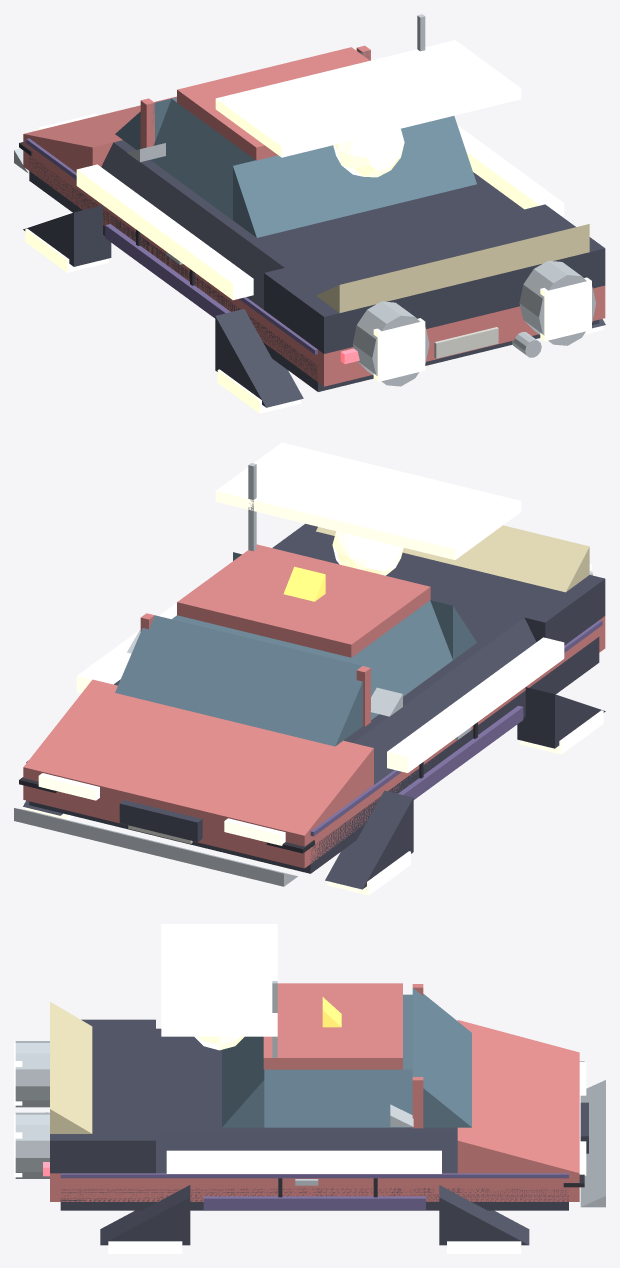
The model's file is telemetry_tide.glb.
3 renders of one model, top to bottom at view 1: azimuth 30°, elevation 25°; view 2: azimuth 150°, elevation 25°; view 3: azimuth 270°, elevation 25°, orthographic. The views are drawn at different scales.
Parts seen in each view (by area): view 1: SolarSail.019, Tail.114, RearWindow.214, BodyUpper.111, Body.314, Ducktail.077, FloatFin-1.056, ShoulderL.111, CabinSideL.111, Roof.314, HoverPodWheel_RL.056, Sill.310 (+15 smaller); view 2: Nose.111, Windshield.214, SolarSail.019, Roof.314, Tail.114, Body.314, FloatFin-1.056, Ducktail.077, ShoulderL.111, Sill.310, CabinSideL.111, HoverPodWheel_FL.056 (+17 smaller); view 3: Nose.111, SolarSail.019, Tail.114, Roof.314, Body.314, CabinSideR.111, BodyUpper.111, ShoulderR.111, FloatFin1.056, Windshield.214, Ducktail.077, RearWindow.214 (+14 smaller).
Boxes of the visible parts, x1=… form: SolarSail.019: x1=215, y1=40, x2=521, y2=157; Tail.114: x1=264, y1=204, x2=605, y2=353; RearWindow.214: x1=233, y1=116, x2=476, y2=237; BodyUpper.111: x1=114, y1=140, x2=523, y2=267; Body.314: x1=23, y1=134, x2=605, y2=386; Ducktail.077: x1=316, y1=224, x2=589, y2=312; FloatFin-1.056: x1=76, y1=164, x2=253, y2=300; ShoulderL.111: x1=101, y1=142, x2=284, y2=309; CabinSideL.111: x1=150, y1=99, x2=255, y2=219; Roof.314: x1=177, y1=47, x2=369, y2=160; HoverPodWheel_RL.056: x1=215, y1=309, x2=303, y2=407; Sill.310: x1=29, y1=157, x2=599, y2=391; Nose.111: x1=23, y1=679, x2=373, y2=835; Windshield.214: x1=115, y1=615, x2=362, y2=746; SolarSail.019: x1=215, y1=442, x2=521, y2=559; Roof.314: x1=177, y1=544, x2=430, y2=657; Tail.114: x1=272, y1=523, x2=605, y2=645; Body.314: x1=23, y1=616, x2=605, y2=868; FloatFin-1.056: x1=387, y1=637, x2=564, y2=772; Ducktail.077: x1=316, y1=525, x2=589, y2=592; ShoulderL.111: x1=353, y1=617, x2=536, y2=784; Sill.310: x1=29, y1=637, x2=599, y2=873; CabinSideL.111: x1=346, y1=600, x2=452, y2=719; HoverPodWheel_FL.056: x1=325, y1=790, x2=413, y2=889; Nose.111: x1=457, y1=1020, x2=579, y2=1173; SolarSail.019: x1=161, y1=924, x2=277, y2=1036; Tail.114: x1=50, y1=1019, x2=155, y2=1173; Roof.314: x1=263, y1=983, x2=402, y2=1069; Body.314: x1=50, y1=1173, x2=579, y2=1201; CabinSideR.111: x1=264, y1=1069, x2=412, y2=1127; BodyUpper.111: x1=156, y1=1028, x2=457, y2=1131; ShoulderR.111: x1=156, y1=1131, x2=457, y2=1173; FloatFin1.056: x1=166, y1=1150, x2=441, y2=1173; Windshield.214: x1=412, y1=988, x2=471, y2=1127; Ducktail.077: x1=50, y1=1002, x2=92, y2=1133; RearWindow.214: x1=222, y1=1036, x2=264, y2=1127.
Bounding box in the file's own units: 3.3 × 2.44 × 5.59.
